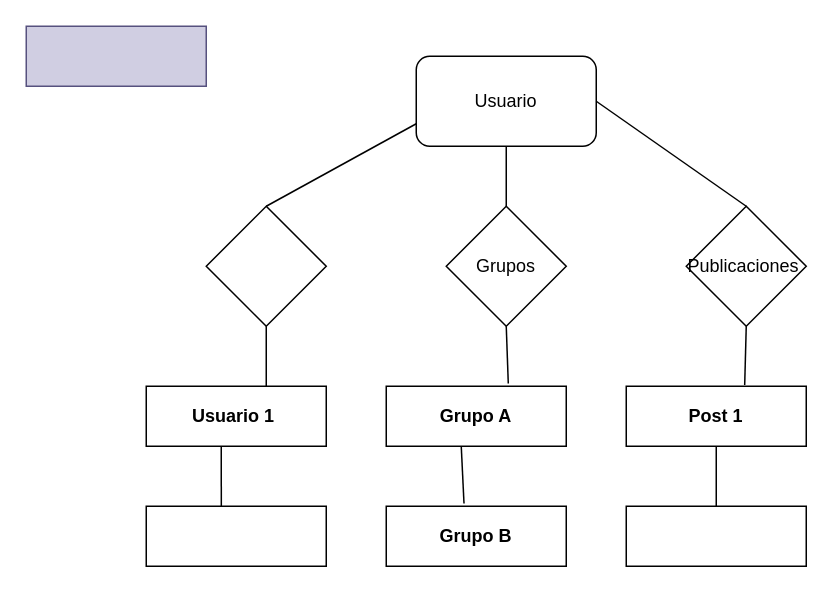
Some shapes in this 833 by 593 pixel diagram are drawn without their labels. The centre of each missing label's shape, as x and y in pixels:
Amigos: [265,265]
Facebook: [115,55]
Post 2: [715,535]
Usuario 2: [235,535]
